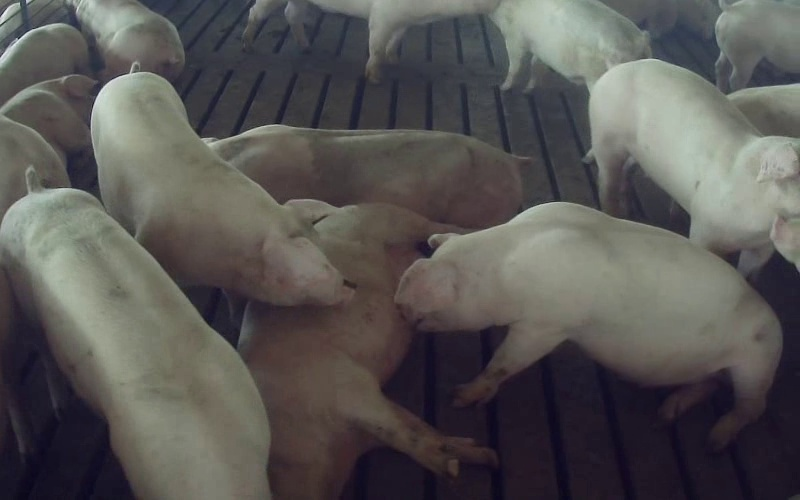pig: (0, 168, 269, 499), (238, 204, 495, 497), (91, 62, 342, 304), (589, 59, 799, 273), (210, 125, 529, 227), (490, 0, 651, 90), (72, 0, 184, 80), (715, 0, 799, 91)
